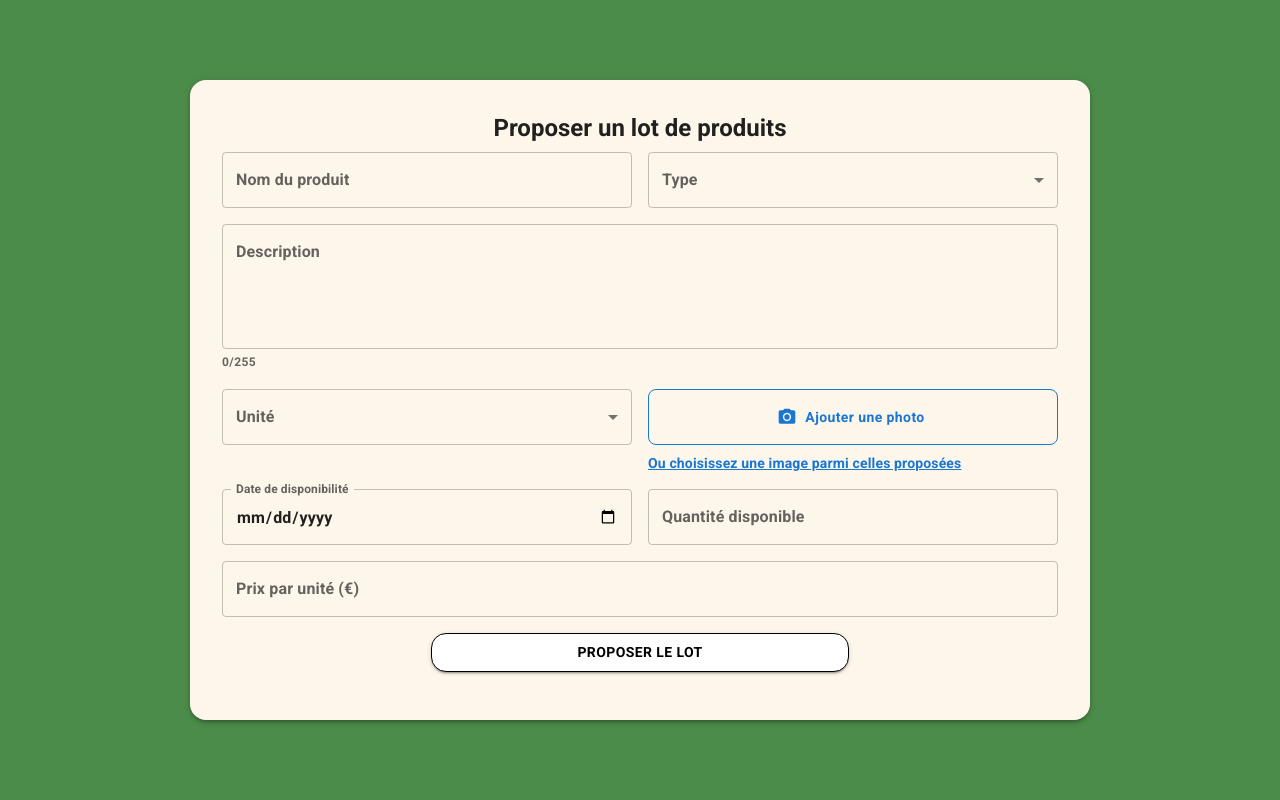
CreateBatchPage › should display error messages when required fields are missing
Click the button "Proposer le lot" at x=640, y=653, box [431,634,849,672]
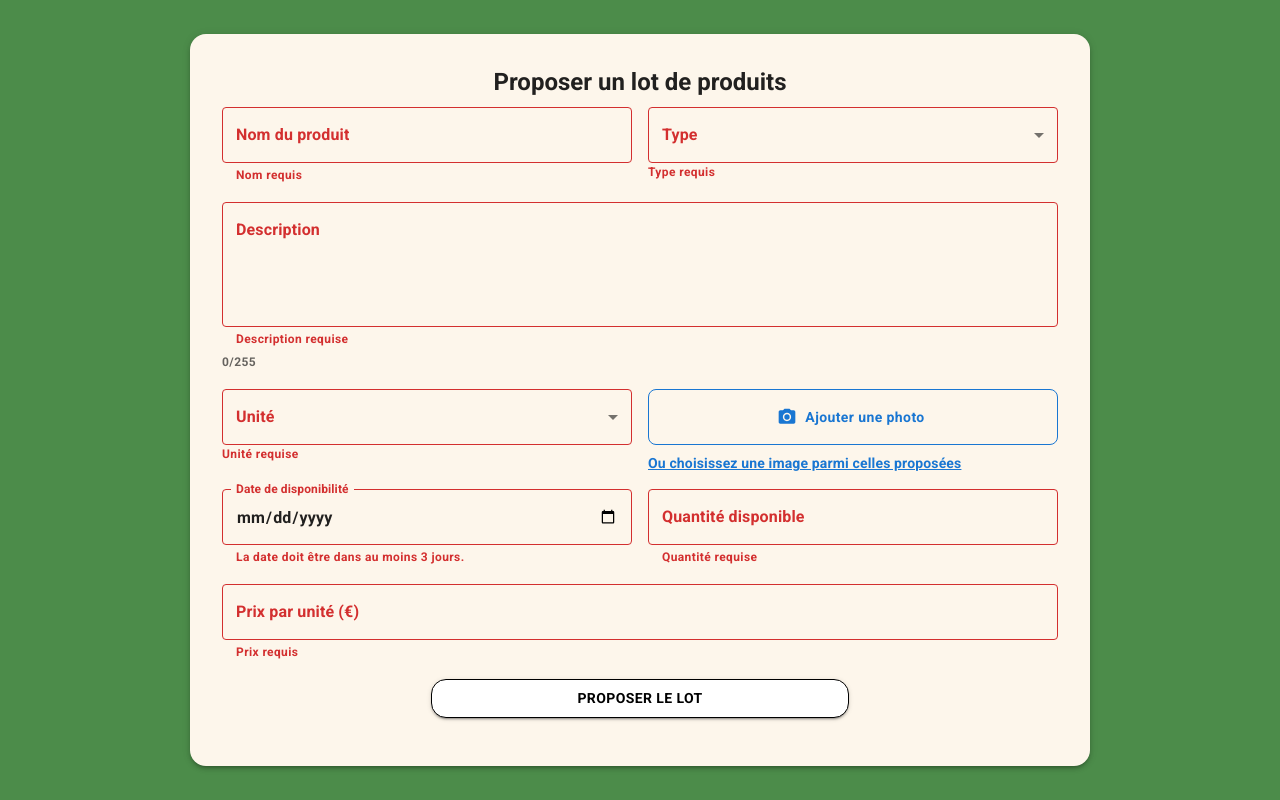
Now the text "Nom requis" is shown, box [236,168,302,182]
Now the text "Type requis" is shown, box [648,165,715,179]
Now the text "Description requise" is shown, box [236,332,348,346]
